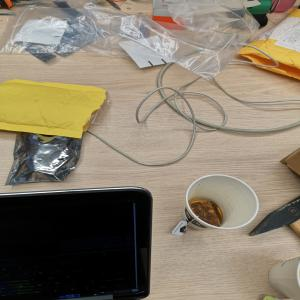Cup: (178, 174, 263, 242)
Trash: (1, 1, 266, 83), (1, 79, 119, 140), (4, 133, 86, 190)
